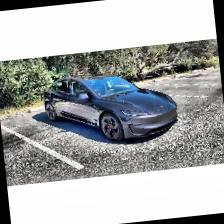EV: (42, 63, 182, 150)
